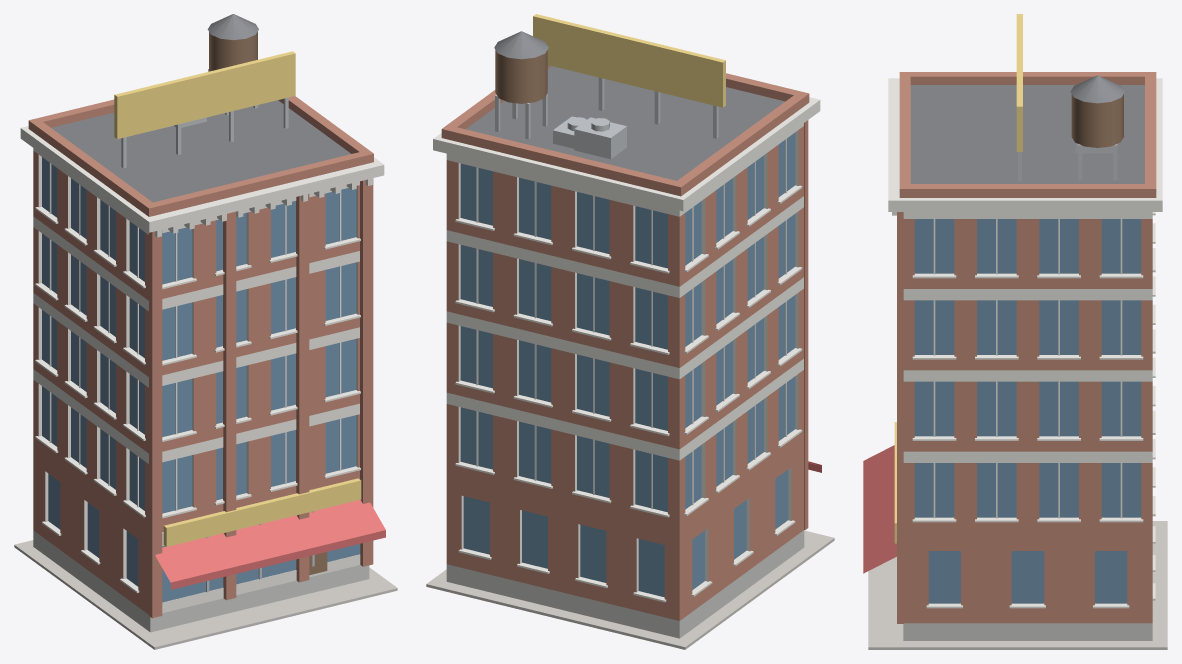
3 views of the same model, side by side, from view 1: azimuth 30°, elevation 25°; view 2: azimuth 150°, elevation 25°; view 3: azimuth 270°, elevation 25° (orthographic). The views are drawn at different scales.
Parts seen in each view (by area): view 1: c_2_1_d; view 2: c_2_1_d; view 3: c_2_1_d.
Boxes of the visible parts, <box> form: c_2_1_d: <box>14,14,397,649</box>; c_2_1_d: <box>426,14,834,649</box>; c_2_1_d: <box>863,14,1167,649</box>.
Size of the model in its own units: 12 by 24.1 by 12.2.
